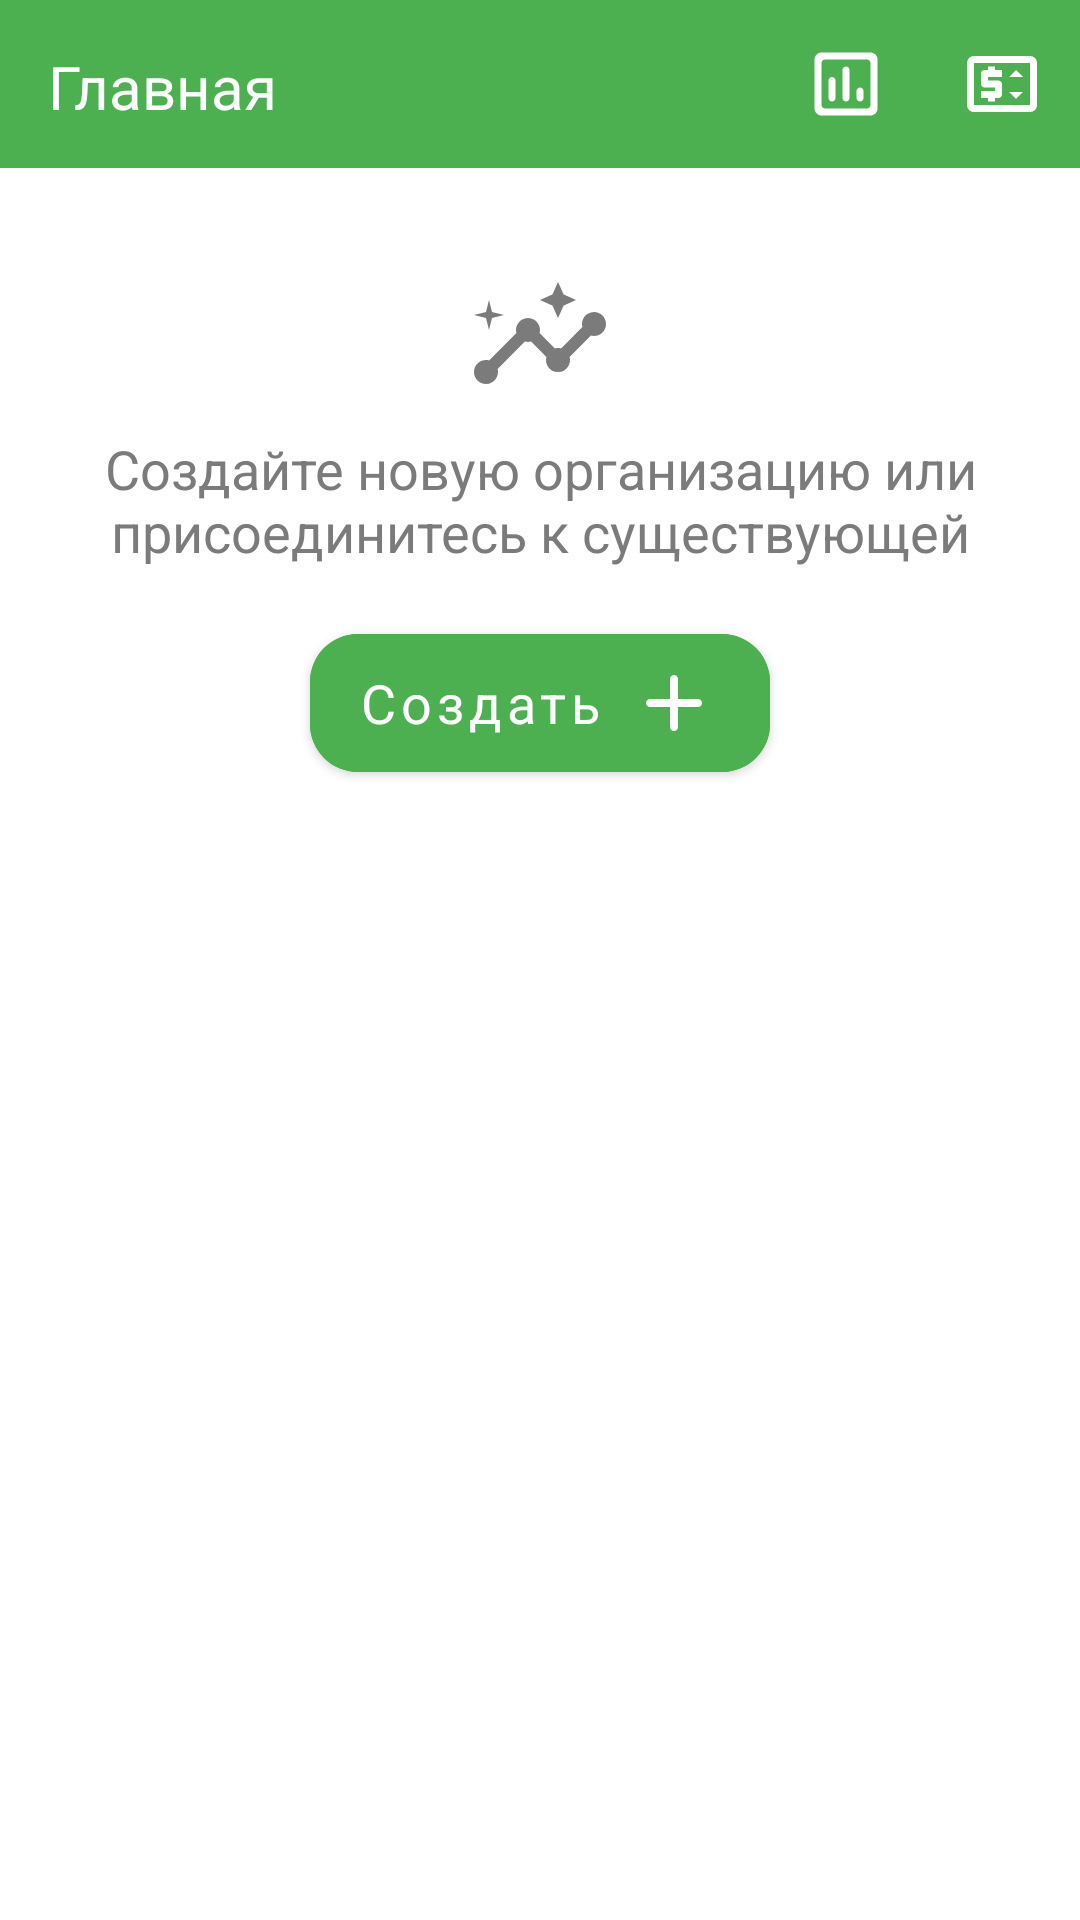

Icon click points for this 1080 × 1920 phone screenshot, format point (x, y):
statistics empty: point (540, 333)
